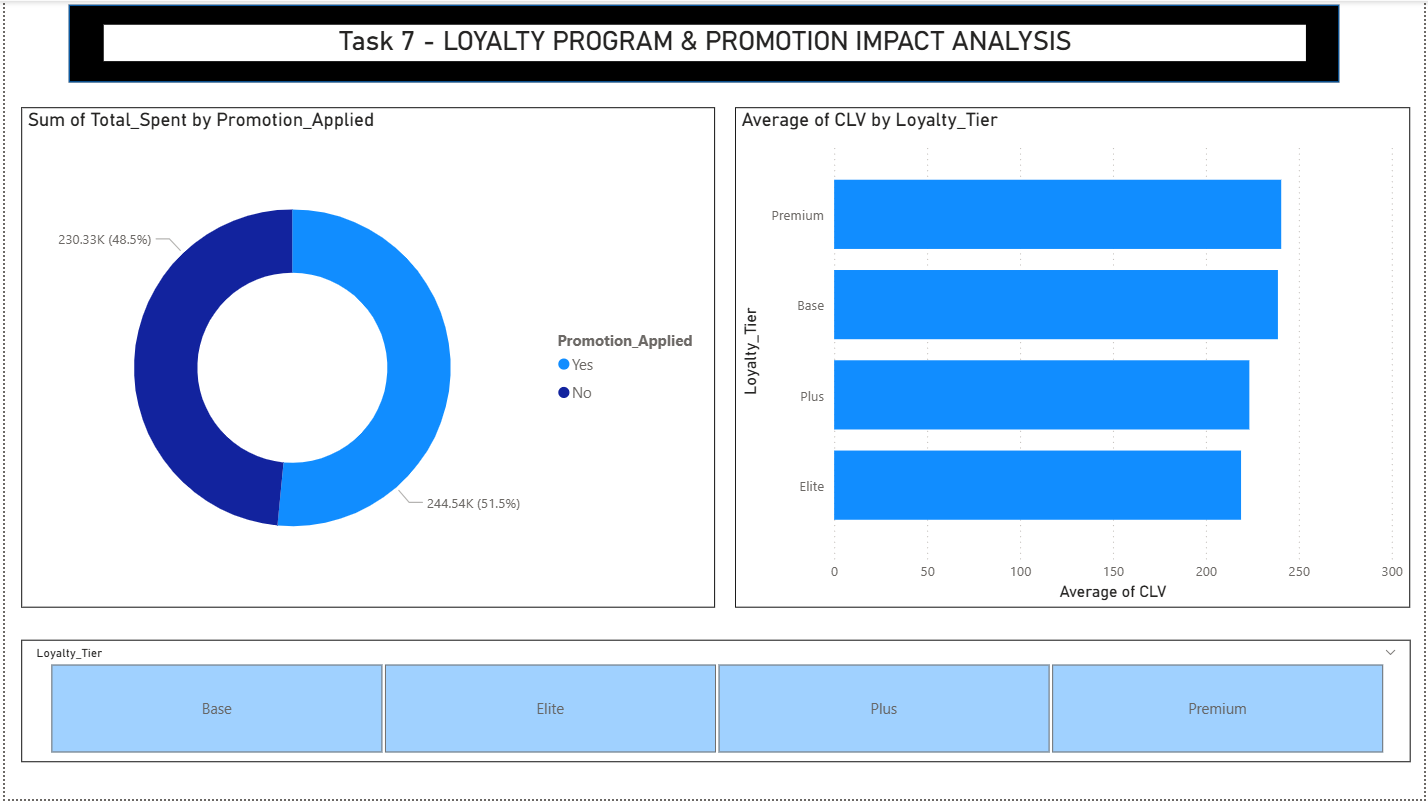

The page's visual inventory and layout, read from the dashboard file:
{"tool":"powerbi","page":{"name":"Task 7 - Loyalty & Promotion Impact","canvas":[1280,720],"ordinal":6},"visuals":[{"type":"shape","box":[57.1,2.9,1145.7,70],"z":0},{"type":"textbox","title":"Task 7 - LOYALTY PROGRAM & PROMOTION IMPACT ANALYSIS","box":[88.6,21.4,1084.3,32.9],"z":1000},{"type":"clusteredBarChart","fields":{"Category":["Loyalty adidas metadata - Loyalty_Program.Loyalty_Tier"],"Y":["Avg(Customer demographics adidas - Customer_Demographics.CLV)"]},"box":[658.6,95.7,608.6,451.4],"z":1002},{"type":"donutChart","fields":{"Category":["Adidas customer transactional - Customer_Transactions.Promotion_Applied"],"Y":["Sum(Customer demographics adidas - Customer_Demographics.Total_Spent)"]},"box":[14.3,95.7,625.7,451.4],"z":1003},{"type":"slicer","fields":{"Values":["Loyalty adidas metadata - Loyalty_Program.Loyalty_Tier"]},"box":[14.3,575.7,1252.9,110],"z":1004}]}

Visuals, with their boxes in screenshot pixels (x1, y1, x2, y2), scaled from the page's 1280x720 canvas onto the 1428x803 screenshot:
shape: <box>64,3,1342,81</box>
"Task 7 - LOYALTY PROGRAM & PROMOTION IMPACT ANALYSIS" textbox: <box>99,24,1309,61</box>
clusteredBarChart - Loyalty adidas metadata - Loyalty_Program.Loyalty_Tier x Avg(Customer demographics adidas - Customer_Demographics.CLV): <box>735,107,1414,610</box>
donutChart - Adidas customer transactional - Customer_Transactions.Promotion_Applied x Sum(Customer demographics adidas - Customer_Demographics.Total_Spent): <box>16,107,714,610</box>
slicer - Loyalty adidas metadata - Loyalty_Program.Loyalty_Tier: <box>16,642,1414,765</box>
